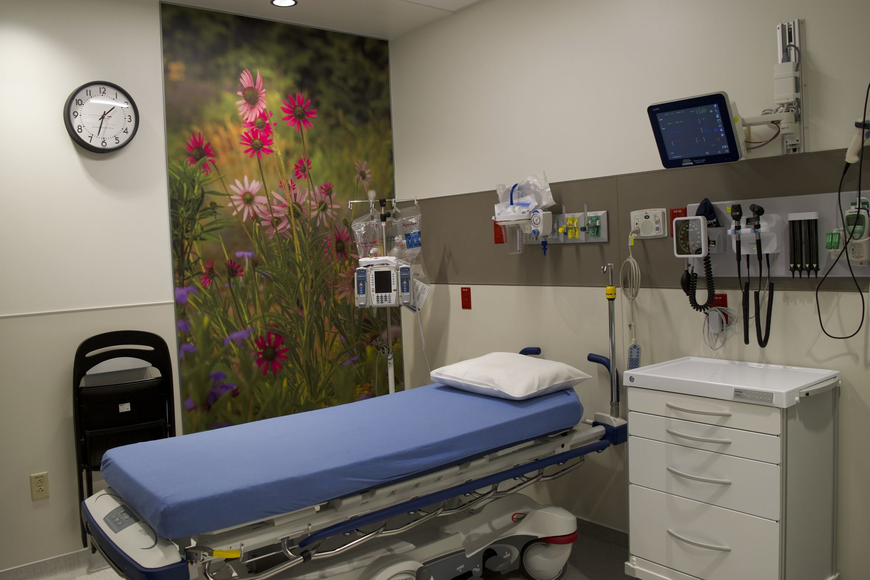bedside_monitor: (646, 91, 741, 169)
bedside_table: (622, 356, 841, 580)
chair: (70, 327, 177, 554)
handle: (665, 467, 731, 485), (664, 531, 730, 549), (666, 430, 732, 448), (664, 402, 730, 420)
hospital_bed: (79, 346, 628, 580)
infusion_pump: (353, 262, 412, 308)
iv_pole: (336, 196, 422, 396), (599, 261, 618, 419)
